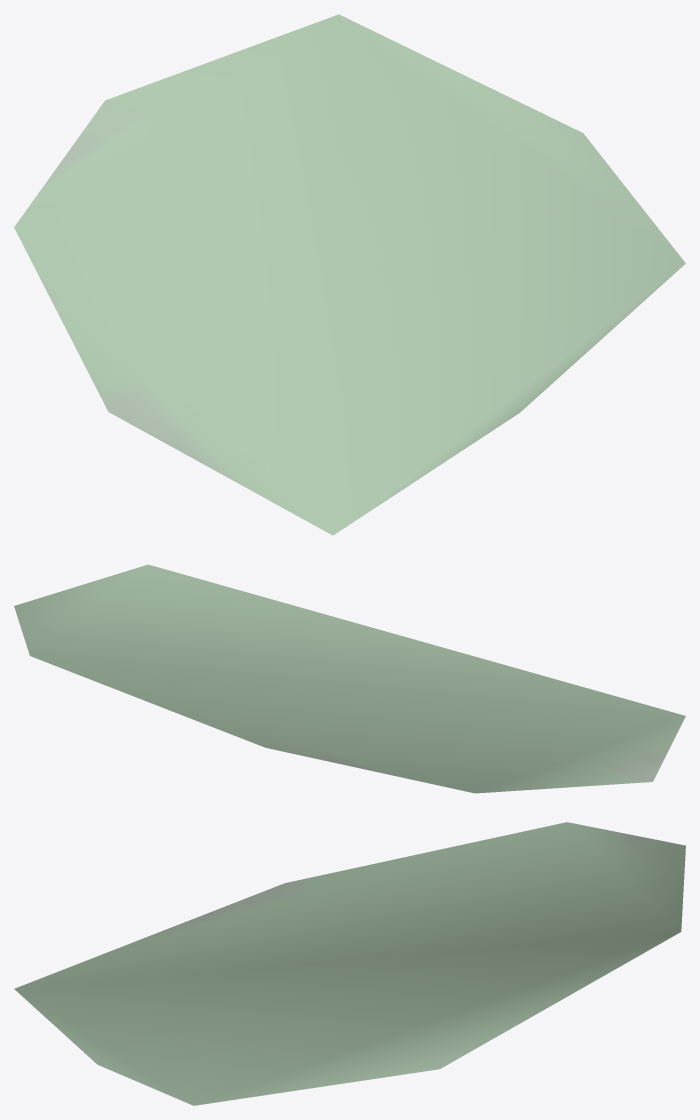
Rendered from TROLLHOLE02_HOLECAP201.fbx.
The picture shows the model from 3 angles, top to bottom: view 1: azimuth 30°, elevation 25°; view 2: azimuth 150°, elevation 25°; view 3: azimuth 270°, elevation 25°; orthographic projection. The views are drawn at different scales.
Visible parts, largest first — view 1: TROLLHOLE02_HOLECAP201; view 2: TROLLHOLE02_HOLECAP201; view 3: TROLLHOLE02_HOLECAP201.
Part boxes in pixels (x1,y1,x2,y2): TROLLHOLE02_HOLECAP201: (14,14,685,535); TROLLHOLE02_HOLECAP201: (14,564,685,793); TROLLHOLE02_HOLECAP201: (14,822,685,1105).
Size of the model in its own units: 11370 by 4186 by 11437.
1 material, 1 textured.
